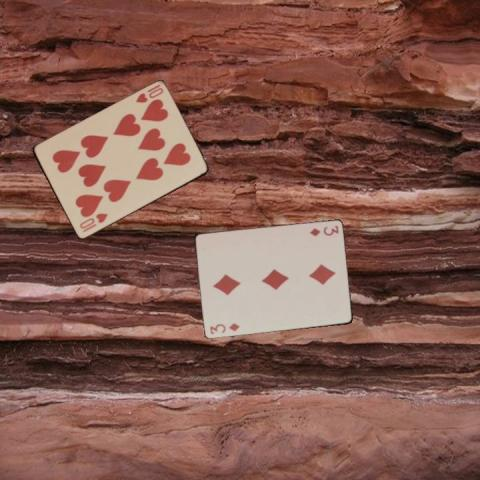10h: (77, 210, 109, 234), (132, 81, 164, 105)
3d: (206, 321, 241, 335), (306, 223, 339, 237)
